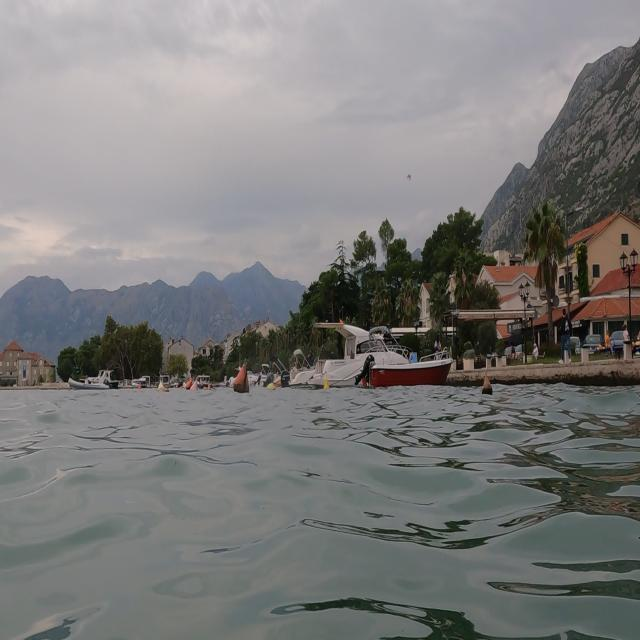boat: (287, 314, 455, 391), (63, 354, 125, 406)
buoy: (228, 350, 254, 406), (478, 368, 493, 393)
